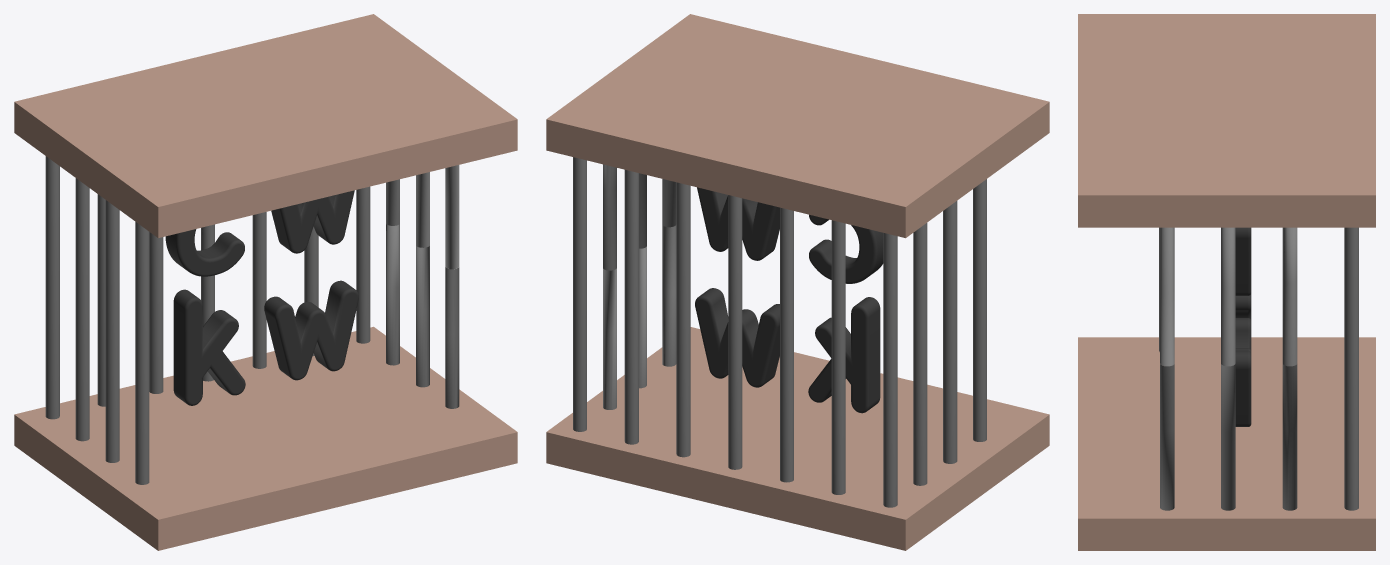
The model's file is QUrule.gltf.
3 views of the same model, side by side, from view 1: azimuth 30°, elevation 25°; view 2: azimuth 150°, elevation 25°; view 3: azimuth 270°, elevation 25° (orthographic). The views are drawn at different scales.
Visible parts, largest first — view 1: Cube.000, Cube.001, Cylinder.001, Cylinder.003, Text.001, Cylinder.002, Text, Cylinder.009; view 2: Cube.000, Cube.001, Cylinder.003, Cylinder.001, Text.001, Text, Cylinder.002, Cylinder.009; view 3: Cube.000, Cube.001, Cylinder.002, Cylinder.009, Cylinder.003, Text.001, Text.
Boxes of the visible parts, x1,y1,x2,y2 form: Cube.000: (14,14,517,238); Cube.001: (14,326,517,550); Cylinder.001: (45,156,149,484); Cylinder.003: (52,161,370,419); Text.001: (173,280,358,405); Cylinder.002: (386,224,459,408); Text: (165,190,354,276); Cylinder.009: (386,165,459,269); Cube.000: (546,14,1049,238); Cube.001: (546,327,1049,550); Cylinder.003: (573,157,896,504); Cylinder.001: (883,179,986,507); Text.001: (695,288,880,413); Text: (697,187,883,283); Cylinder.002: (603,225,676,409); Cylinder.009: (603,164,676,270); Cube.000: (1078,14,1375,227); Cube.001: (1078,337,1375,550); Cylinder.002: (1160,364,1297,510); Cylinder.009: (1160,227,1297,366); Cylinder.003: (1344,227,1358,510); Text.001: (1235,294,1251,426); Text: (1235,227,1251,295).
Size of what is drawn, in the model's own units: 2 by 1.83 by 1.39.
